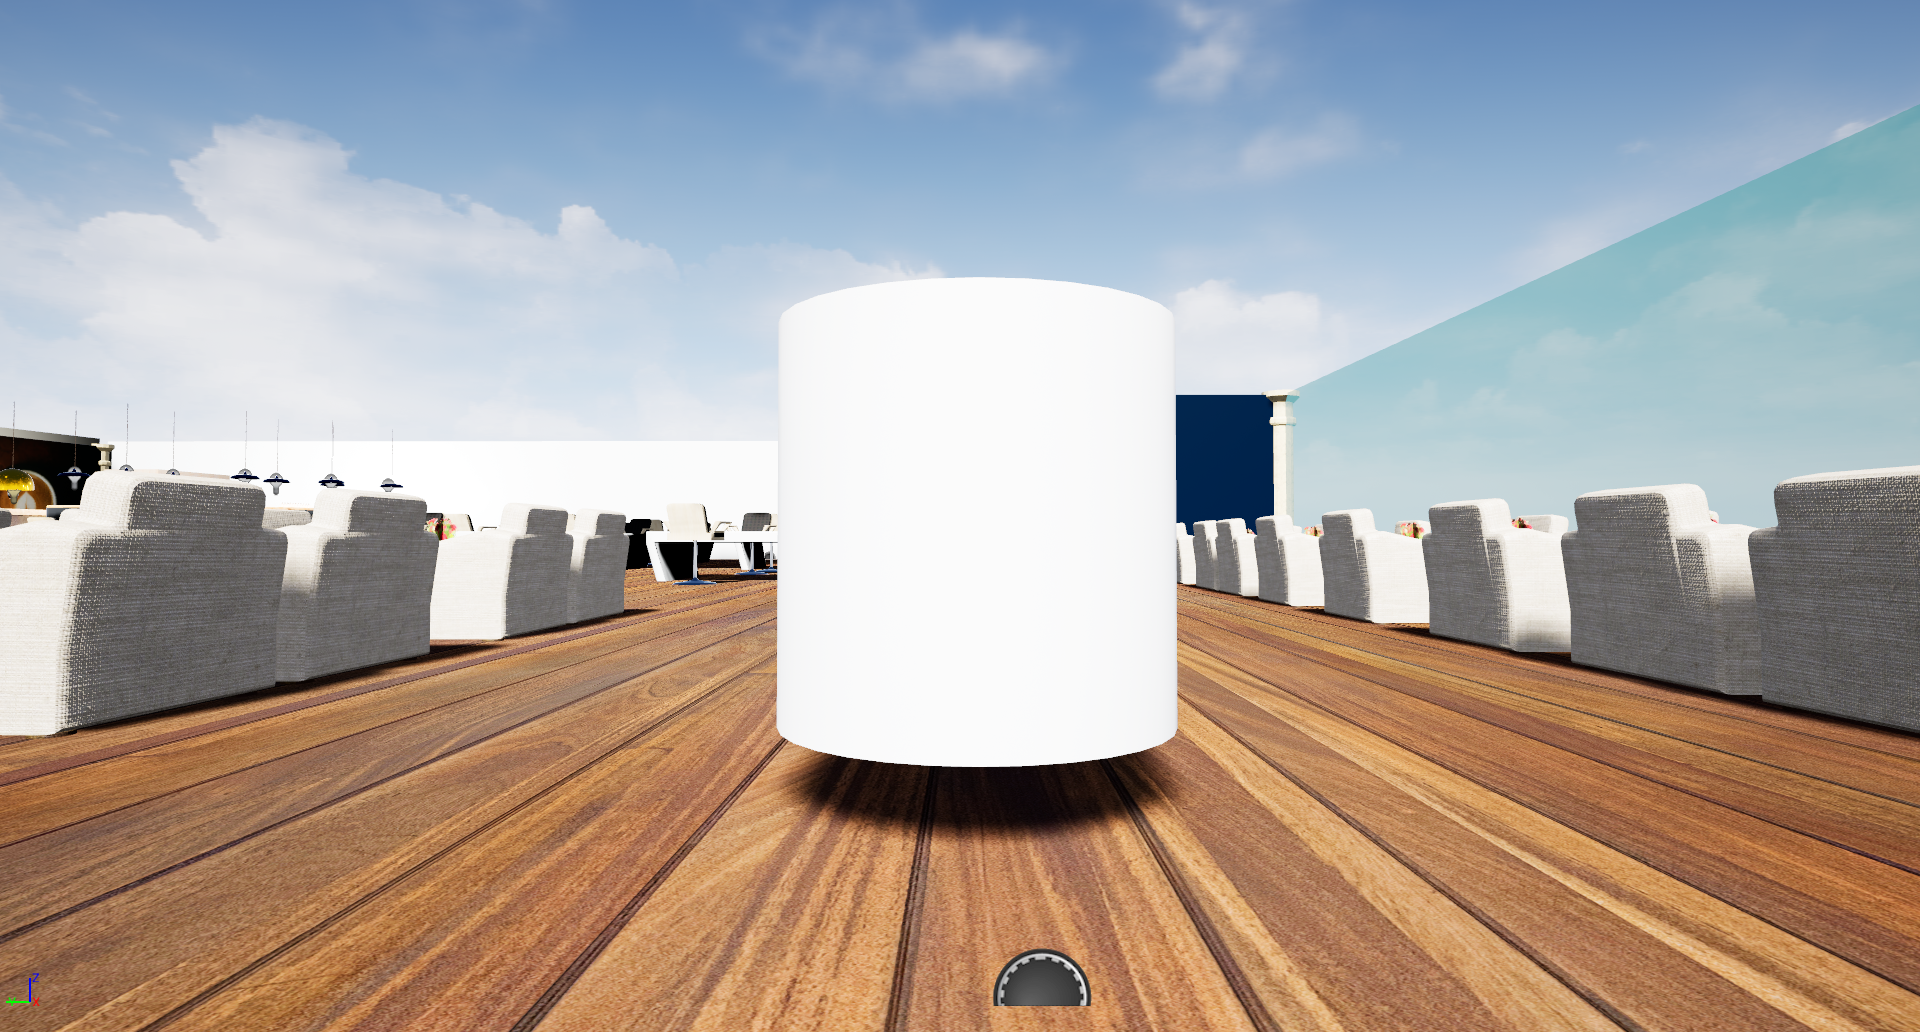Humen: (773, 275, 1183, 773)
